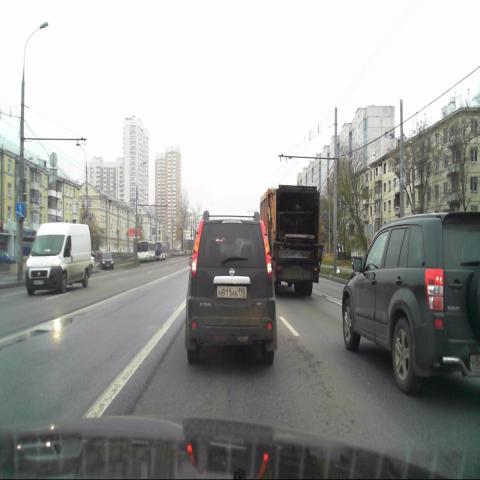6_6: (16, 203, 25, 217)
